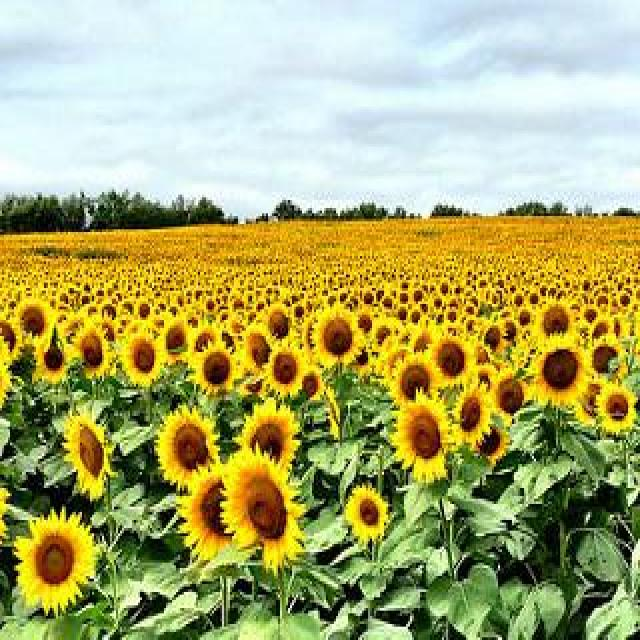sunflower: (223, 445, 307, 573), (15, 508, 97, 615), (177, 464, 245, 565), (392, 390, 456, 482), (63, 412, 117, 500), (156, 405, 214, 483), (239, 402, 301, 474), (534, 338, 588, 410), (314, 304, 360, 371), (391, 352, 441, 408), (346, 484, 390, 545), (428, 332, 476, 385), (123, 331, 165, 389), (596, 382, 640, 435), (453, 387, 491, 448), (190, 342, 238, 390), (488, 364, 530, 418), (14, 294, 52, 350), (73, 323, 113, 376), (533, 301, 577, 347), (263, 344, 303, 392), (35, 334, 70, 381), (241, 323, 272, 375), (592, 336, 626, 381), (241, 327, 271, 377), (261, 302, 295, 342), (164, 314, 189, 364), (480, 322, 508, 358), (191, 324, 225, 352), (302, 366, 323, 397), (592, 316, 614, 337), (614, 317, 632, 335)
